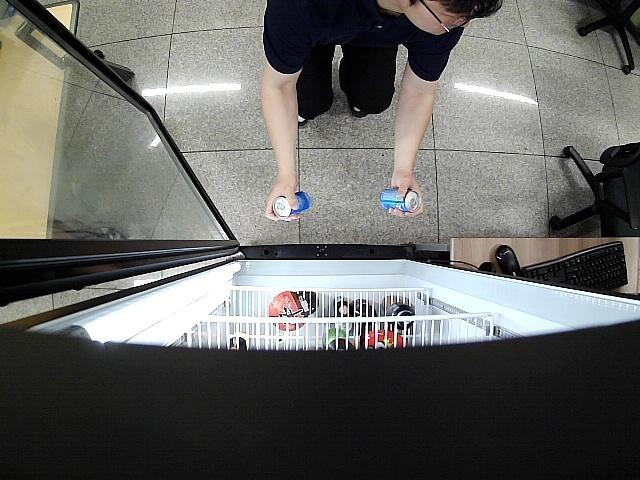15_letsbe: (380, 188, 420, 214), (274, 191, 310, 218)
